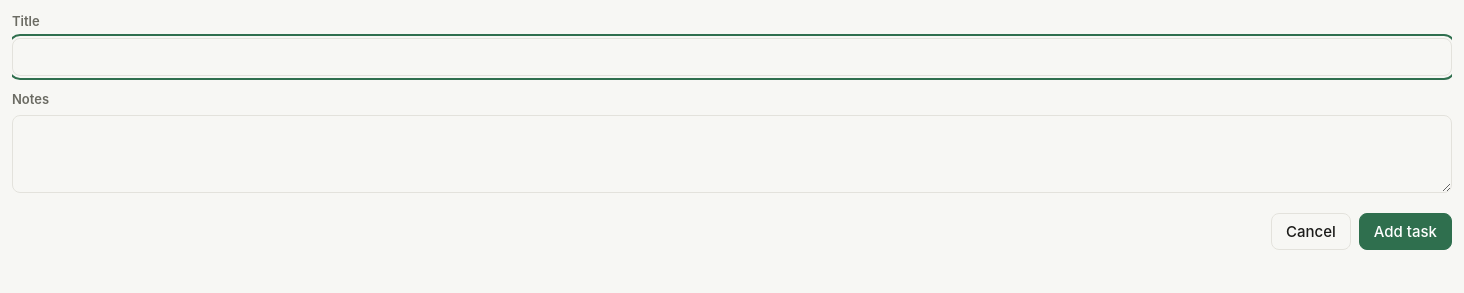
Test: TaskForm › shows a validation error and does not submit when the title is empty
Click the button "Add task" at x=1405, y=232, box [1359, 213, 1452, 250]
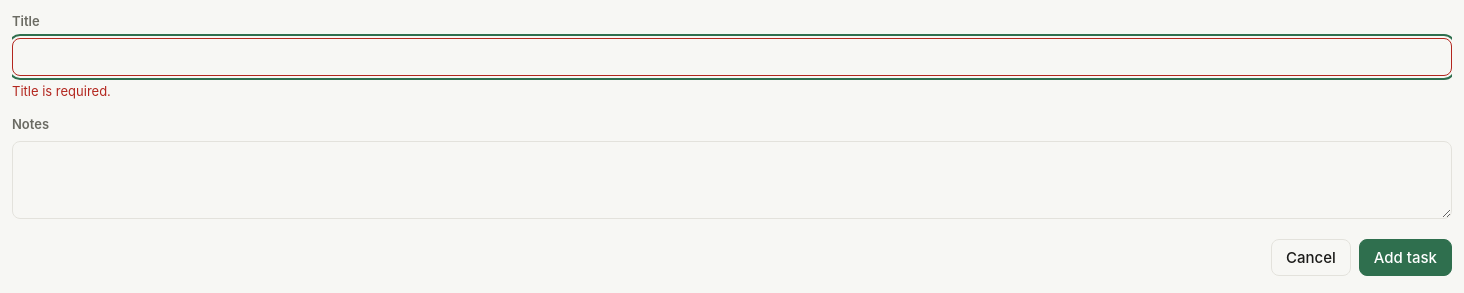
Result: the text "Title is required." is shown at [12, 82, 111, 98]
